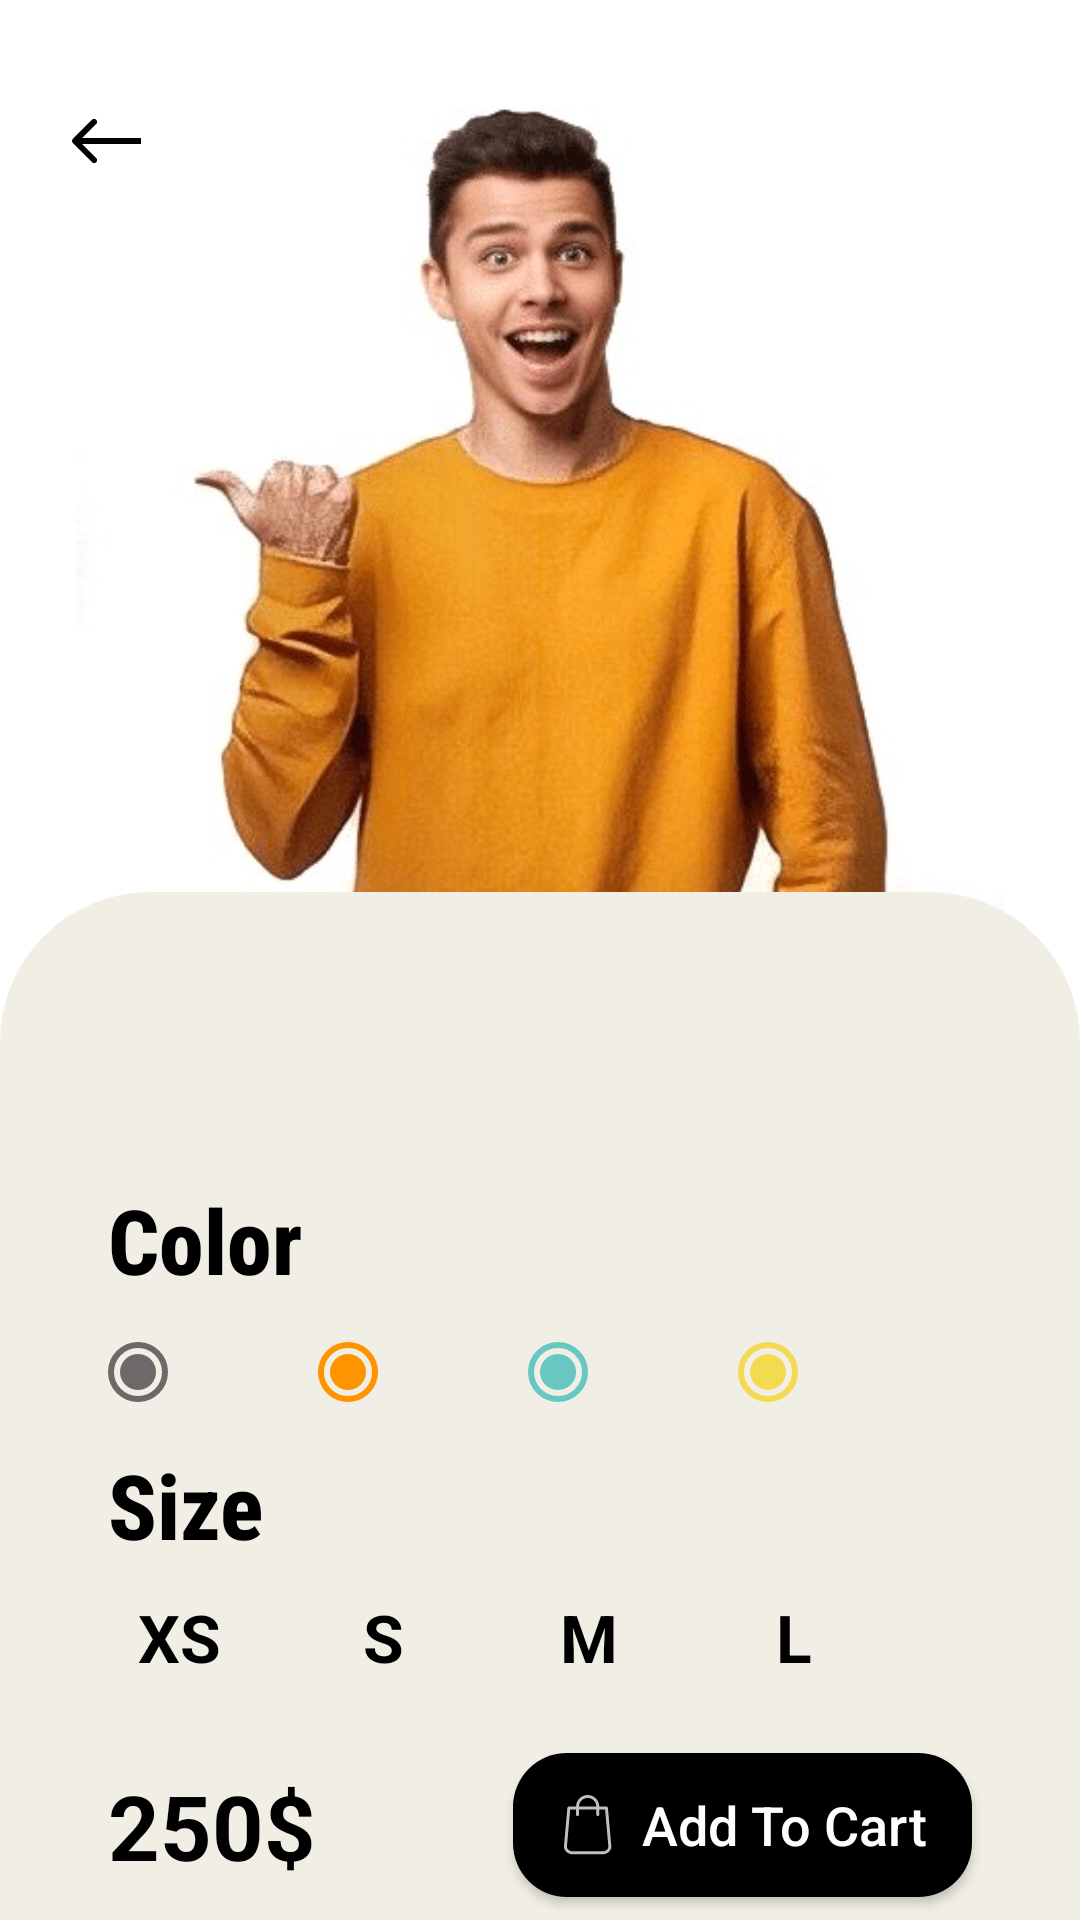

Locate icon controls on the screen. Image size 1080*1920, boxes as (x1, y1, x2, y2).
arrow back: (72, 119, 141, 163)
radio: (108, 1342, 168, 1402), (318, 1342, 378, 1402), (528, 1342, 588, 1402), (738, 1342, 798, 1402)
